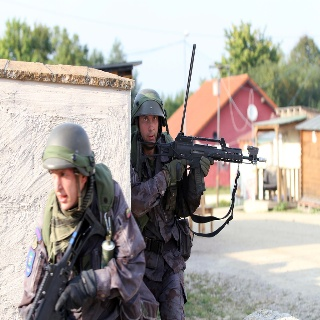rifle: (25, 208, 107, 320), (135, 131, 267, 194)
